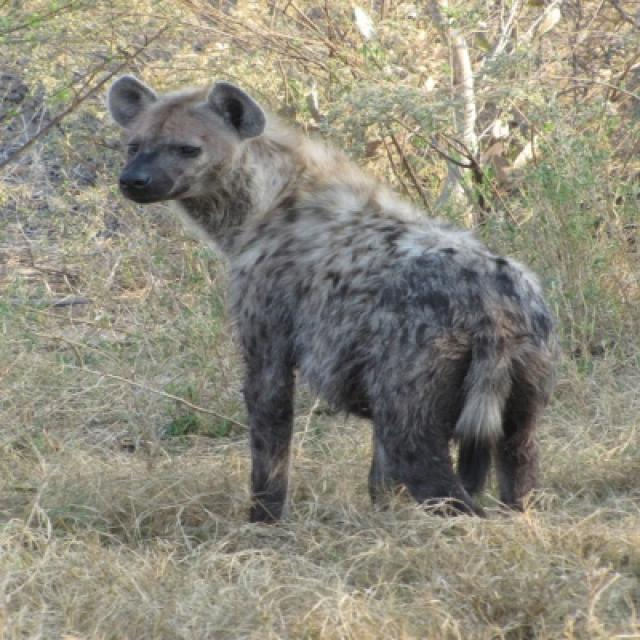hyena: (106, 77, 558, 526)
